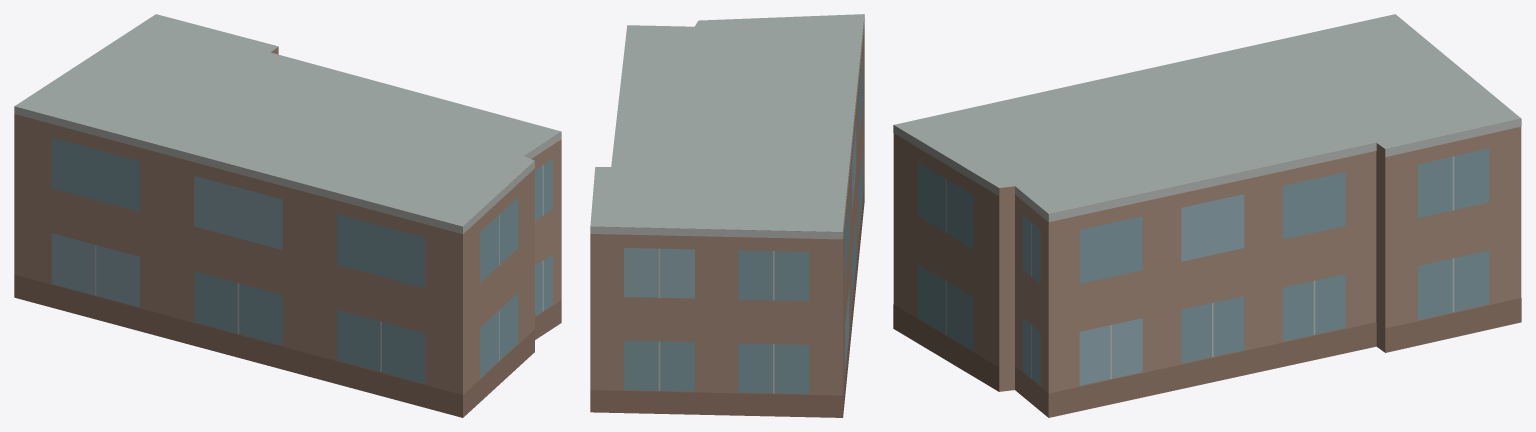
File: survey-upis-32515274.glb
3 renders of one model, left to right at view 1: azimuth 30°, elevation 25°; view 2: azimuth 150°, elevation 25°; view 3: azimuth 270°, elevation 25°, orthographic. The views are drawn at different scales.
Visible parts, largest first — view 1: survey-upis-32515274.tmp; view 2: survey-upis-32515274.tmp; view 3: survey-upis-32515274.tmp.
Part boxes in pixels (bbox=[...]): survey-upis-32515274.tmp: bbox=[14, 14, 561, 417]; survey-upis-32515274.tmp: bbox=[590, 14, 864, 417]; survey-upis-32515274.tmp: bbox=[893, 14, 1521, 417].
Size of the model in its own units: 12.85 by 6.1 by 17.04.
